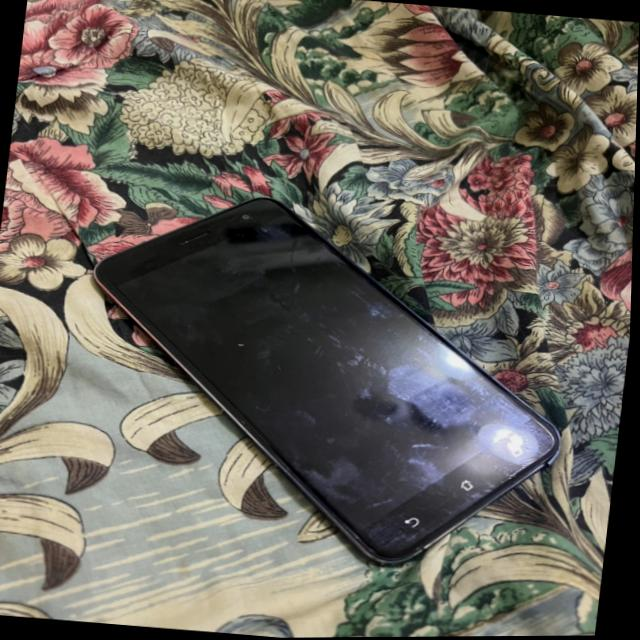Smartphone: (96, 198, 562, 564)
